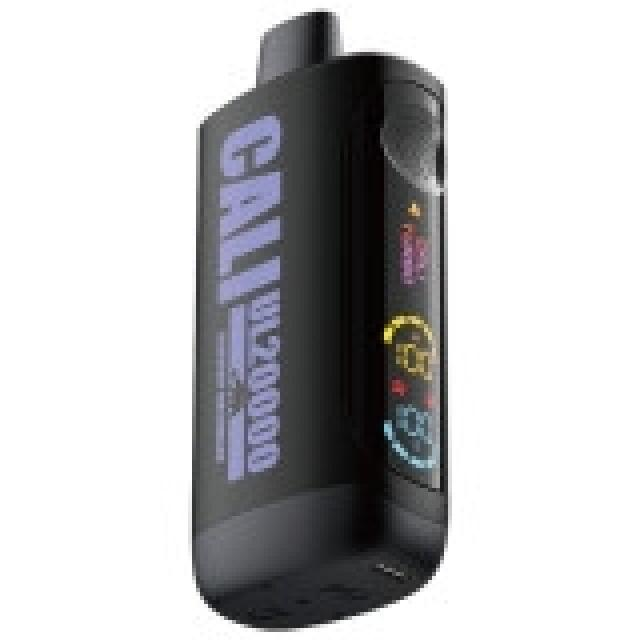Hazard: (188, 4, 448, 628)
